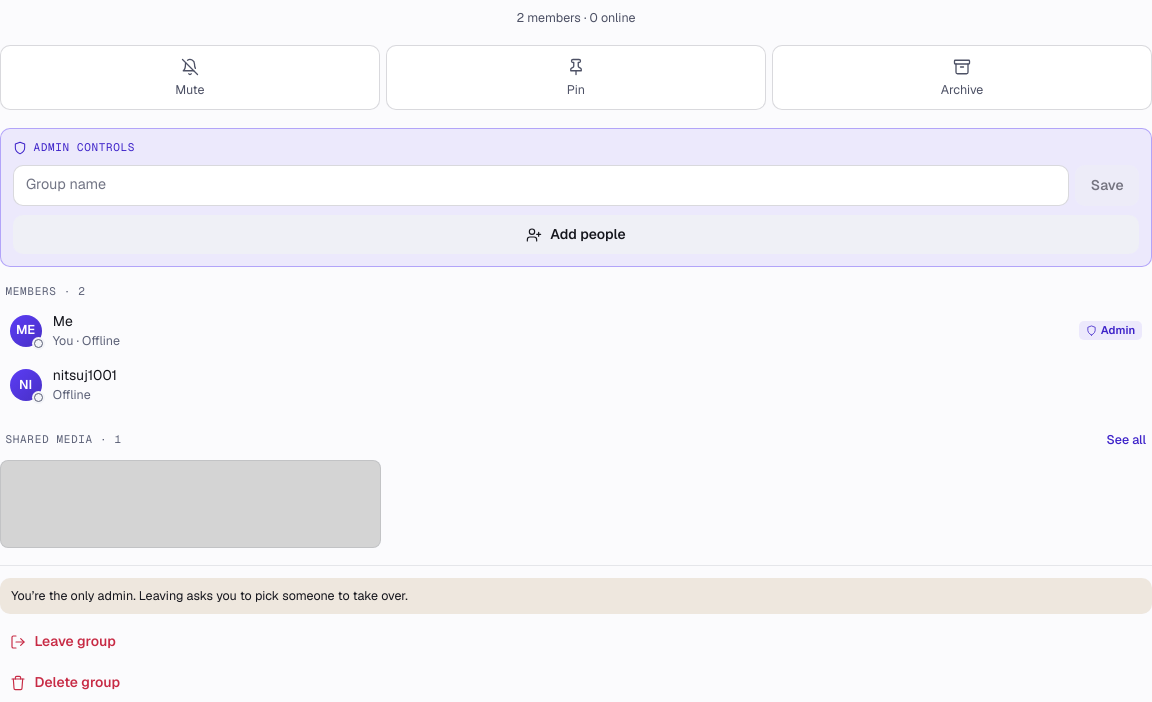
GroupInfoPanel — admin actions › deletes an untitled group on confirmation alone — there is no name to type
(page scrolled)
What coordinates should you click on to do the following:
click the button "Delete group"
I would click on:
 (77, 682)
Its box is [0, 663, 1151, 701].
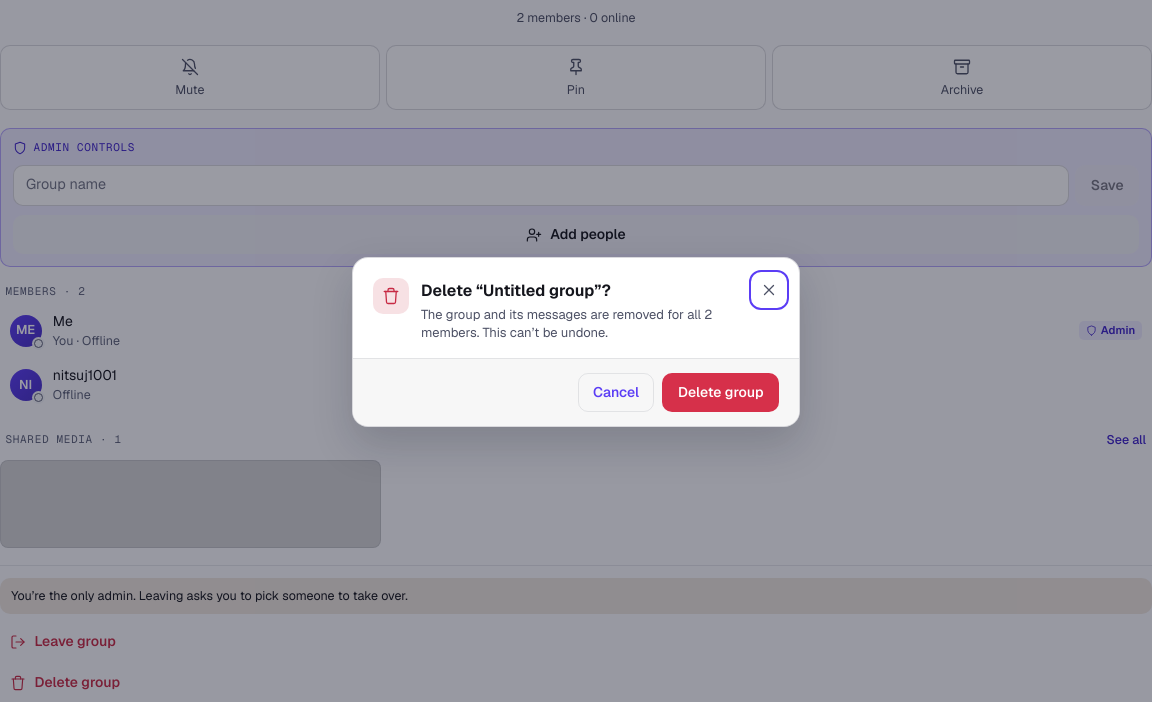
Now the button "Delete group" is enabled, box [662, 373, 779, 412]
